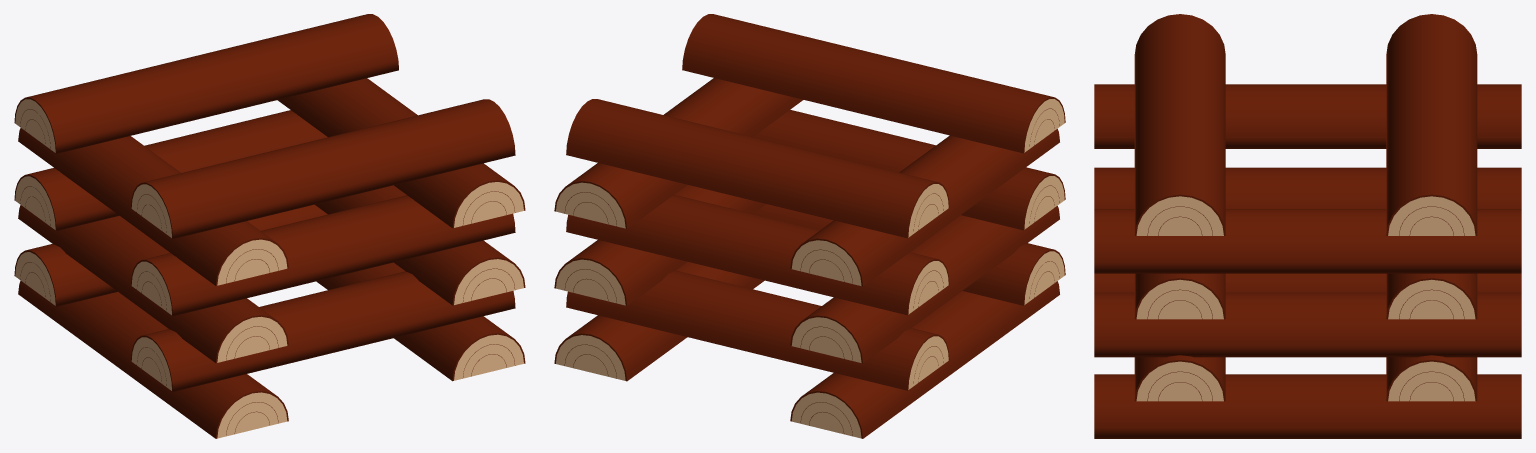
Rendered from 통나무 캠파.dae.
3 renders of one model, left to right at view 1: azimuth 30°, elevation 25°; view 2: azimuth 150°, elevation 25°; view 3: azimuth 270°, elevation 25°, orthographic. The views are drawn at different scales.
Visible parts, largest first — view 1: group_4 (×6), group_3 (×6), group_5 (×12), group_2 (×12); view 2: group_3 (×6), group_4 (×6), group_5 (×12), group_2 (×12); view 3: group_2 (×3), group_5 (×3), group_4 (×12), group_3 (×12).
Part boxes in pixels (x1,y1,x2,y2): group_4 (×6): [131, 99, 515, 391]; group_3 (×6): [14, 14, 398, 306]; group_5 (×12): [18, 128, 288, 438]; group_2 (×12): [277, 78, 525, 381]; group_3 (×6): [566, 99, 949, 390]; group_4 (×6): [682, 14, 1065, 305]; group_5 (×12): [790, 129, 1059, 438]; group_2 (×12): [554, 78, 803, 381]; group_2 (×3): [1094, 209, 1521, 438]; group_5 (×3): [1094, 84, 1521, 292]; group_4 (×12): [1134, 14, 1225, 401]; group_3 (×12): [1386, 14, 1477, 401].
Bounding box in the file's own units: 185 × 185 × 119.
